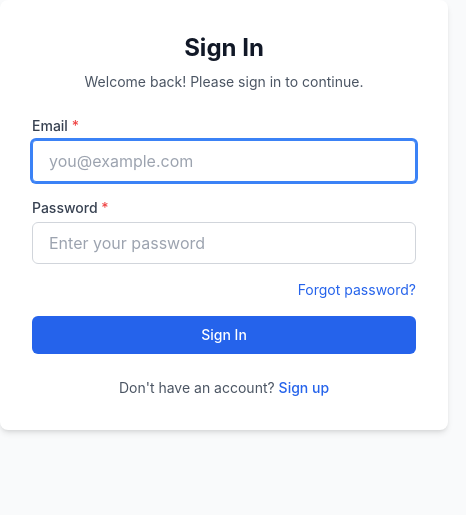
Scenario: SignInForm Component › Sign In Functionality › should display error message on sign in failure
// Fill in form
Type "test@example.com" into the field labelled "Email *".
click(224, 161); type("test@example.com")  # box [32,140,416,182]
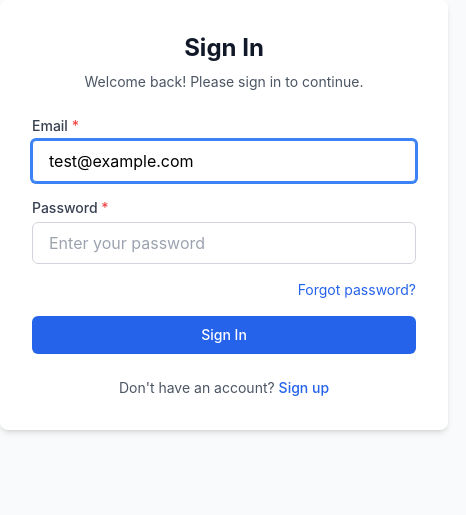
Type "WrongPassword" into the password field labelled "Password *".
click(224, 243); type("WrongPassword")  # box [32,222,416,264]
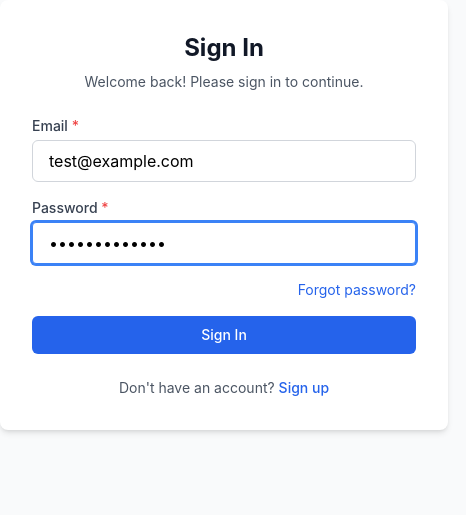
// Submit form
Click the button "Sign In".
click(224, 335)  # box [32,316,416,354]
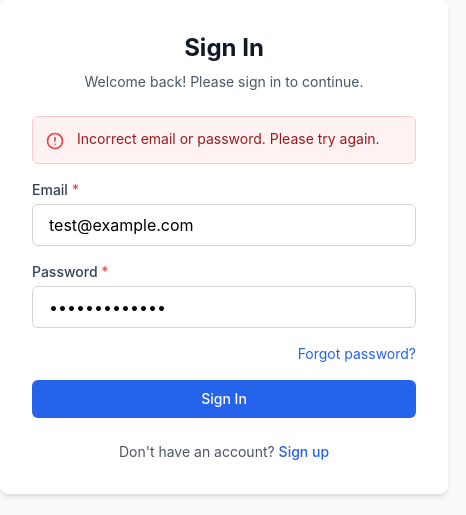
Check: the text "Incorrect email or password. Please try again." is shown, box [77,129,380,149]
